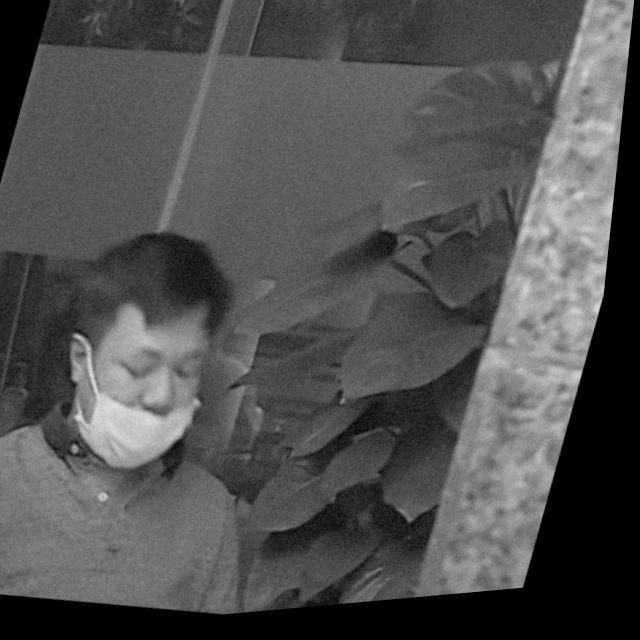hairnet: (84, 331, 229, 482)
